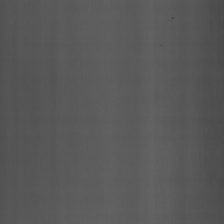inclusion: (169, 6, 178, 21), (157, 36, 165, 49)
